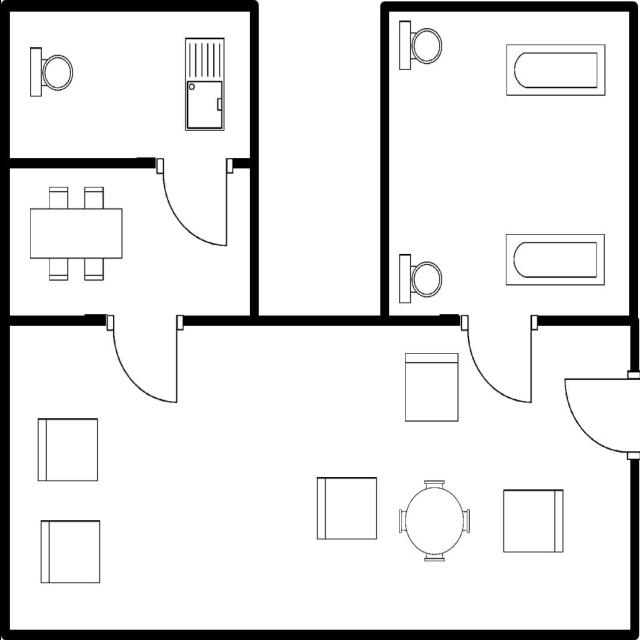dining_table: (23, 180, 129, 288)
large_sink: (24, 41, 76, 101), (395, 247, 446, 308), (394, 17, 446, 75)
round_table: (392, 472, 474, 568)
sink: (178, 31, 228, 135)
small_sofa: (496, 482, 570, 558), (312, 469, 382, 547), (31, 411, 102, 486), (36, 512, 104, 588), (402, 345, 464, 428)
tub: (500, 228, 610, 291), (502, 38, 610, 100)
